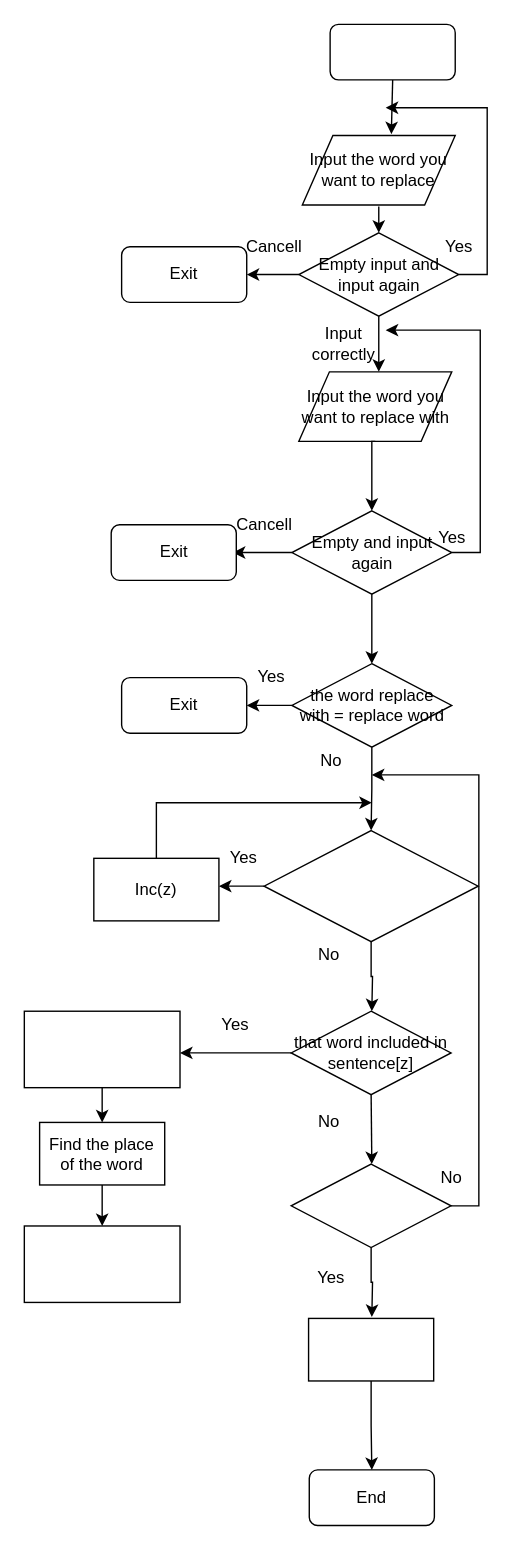
Image size: 523x1561. Some labels were removed from this diagram. Each missing label, with the centre of its shape:
"copy the sentence after the replace word" belongs at (101,1263).
"copy the sentence before the replace word" belongs at (101,1049).
"Select more than one sentence/sentence[z] has not been selected" belongs at (370,885).
"Show success message" belongs at (370,1349).
"Start" belongs at (392,51).
"z > number of sentences?" belongs at (370,1205).
